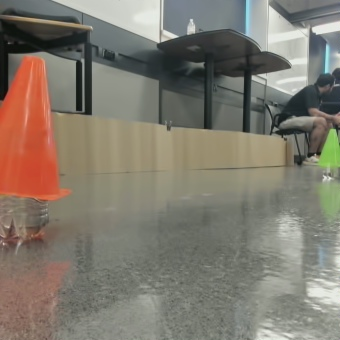Cone: (1, 52, 62, 190)
